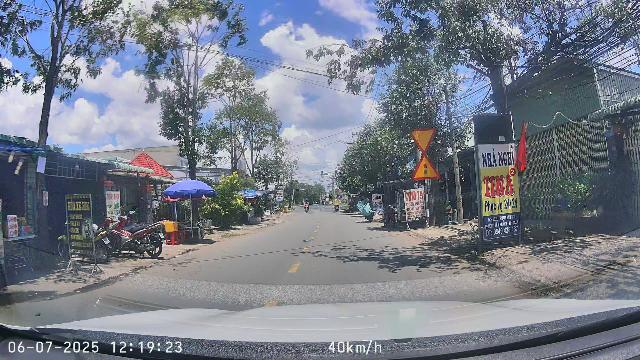208-giao-nhau-voi-duong-uu-tien: (409, 128, 437, 153)
209-giao-nhau-co-tin-hieu-den: (412, 154, 440, 180)
